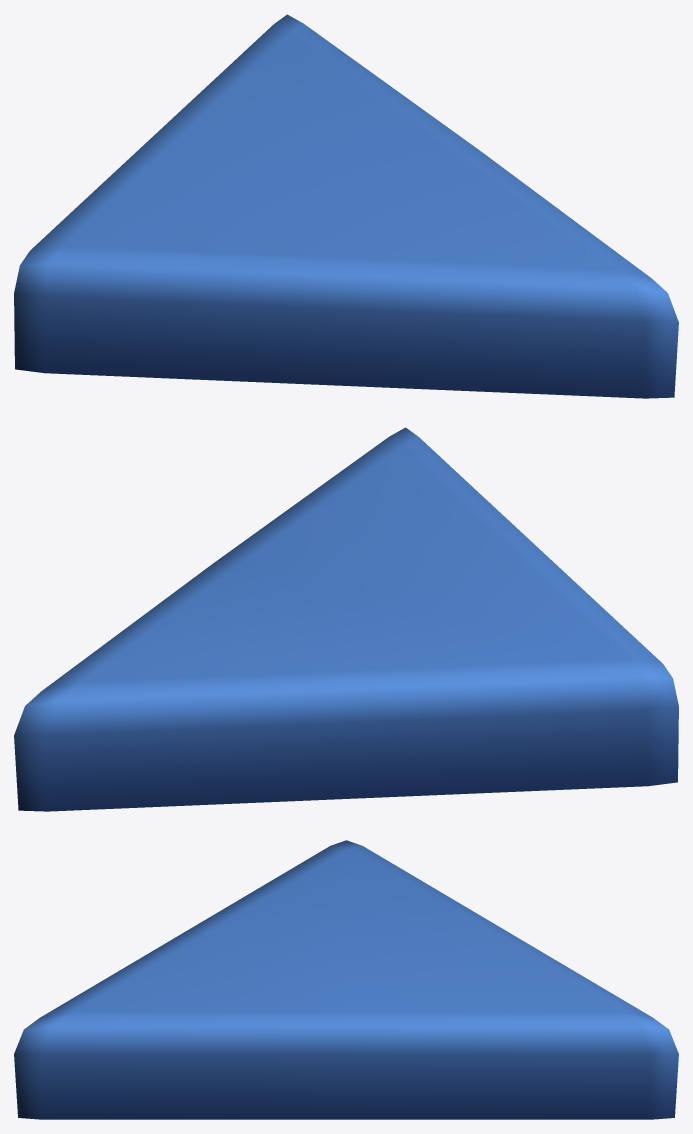
Rendered from Triangle.fbx.
3 renders of one model, top to bottom at view 1: azimuth 30°, elevation 25°; view 2: azimuth 150°, elevation 25°; view 3: azimuth 270°, elevation 25°, orthographic. The views are drawn at different scales.
Visible parts, largest first — view 1: Plane.049; view 2: Plane.049; view 3: Plane.049.
Part boxes in pixels (<box>): Plane.049: <box>14,14,678,398</box>; Plane.049: <box>14,427,678,811</box>; Plane.049: <box>14,840,678,1119</box>.
Size of the model in its own units: 197 by 44.48 by 284.
